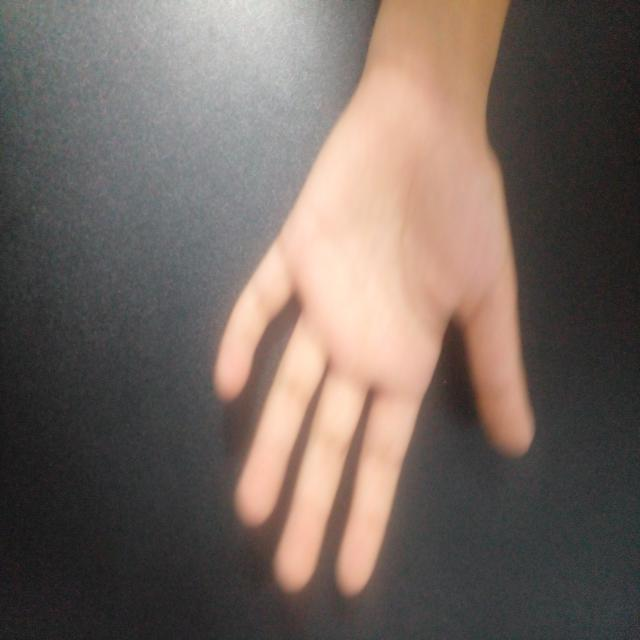Open Hand: (211, 99, 555, 596)
